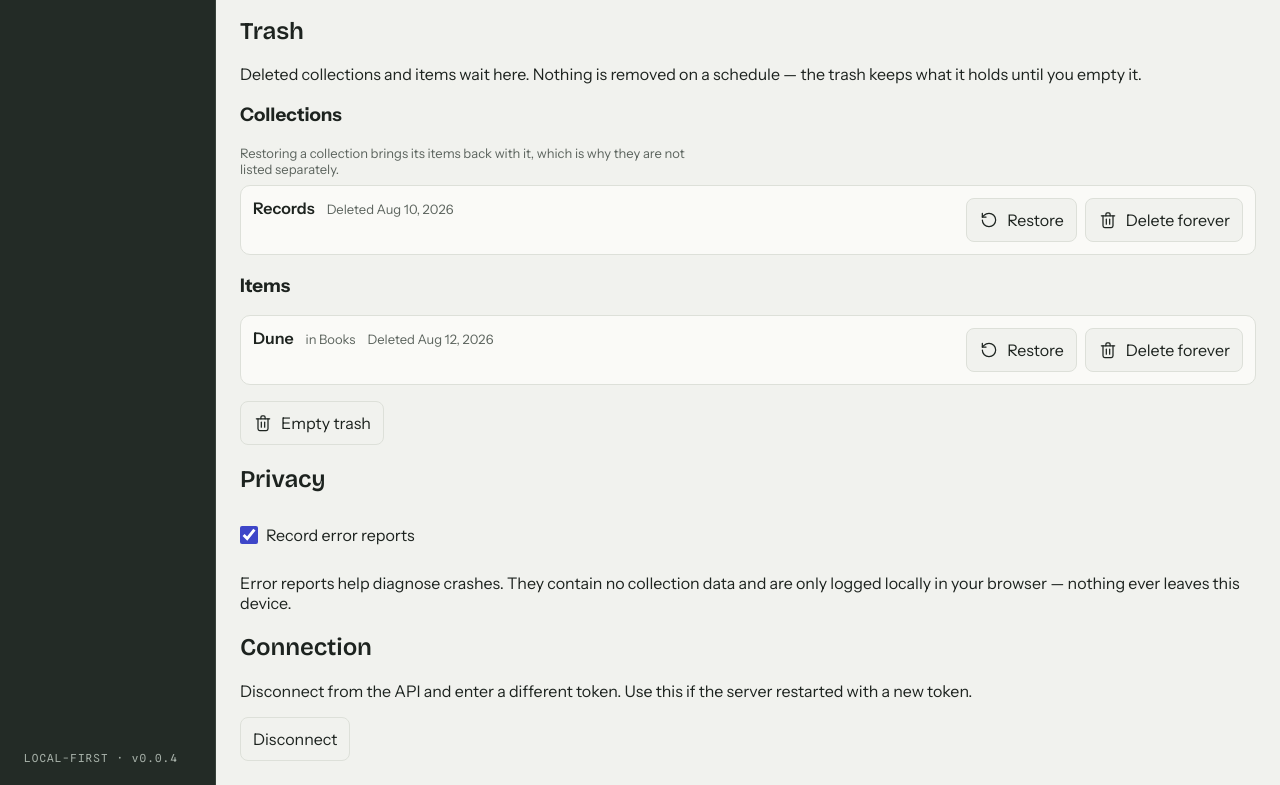
Settings empty trash › asks with the real counts before emptying
(page scrolled)
Click the button "Empty trash" at (312, 423), box [240,401,384,445]
(page scrolled)
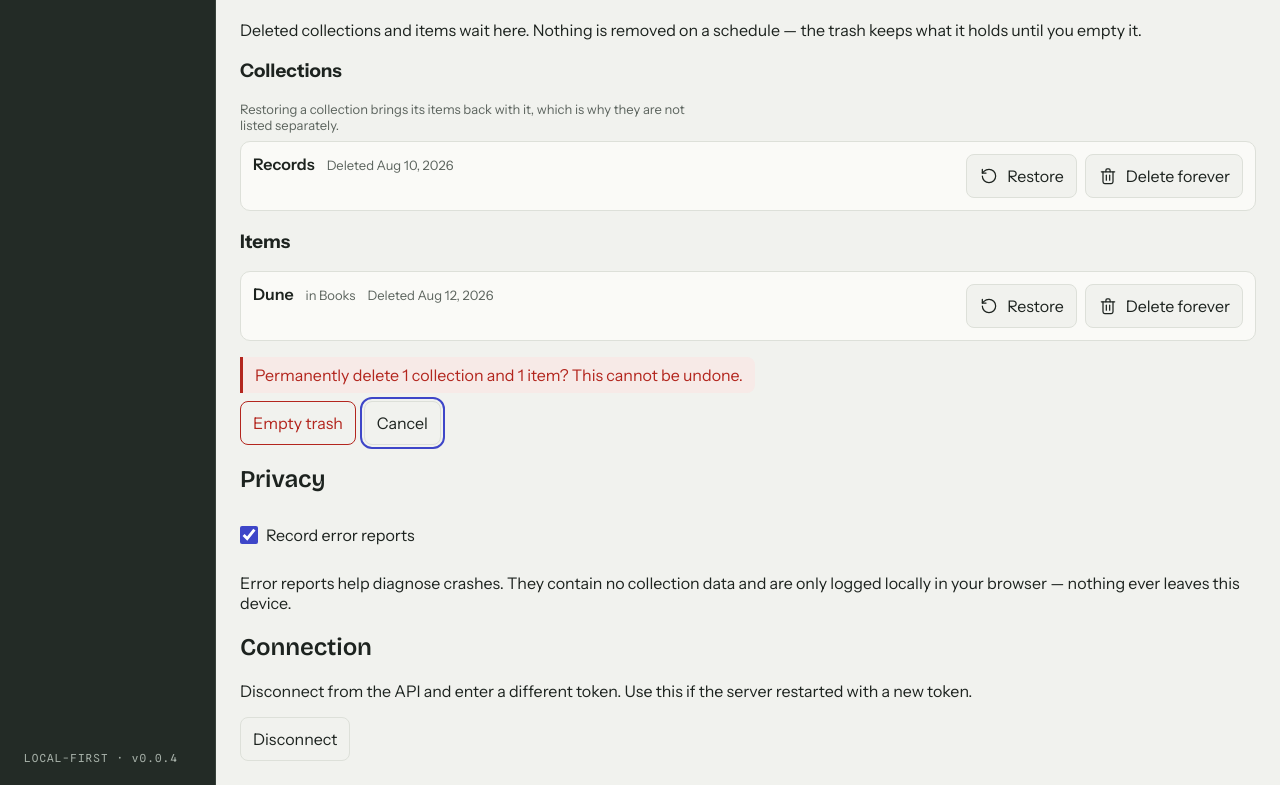
Expected: the message reads "Permanently delete 1 collection and 1 item? This cannot be undone.", [255,365,743,385]
